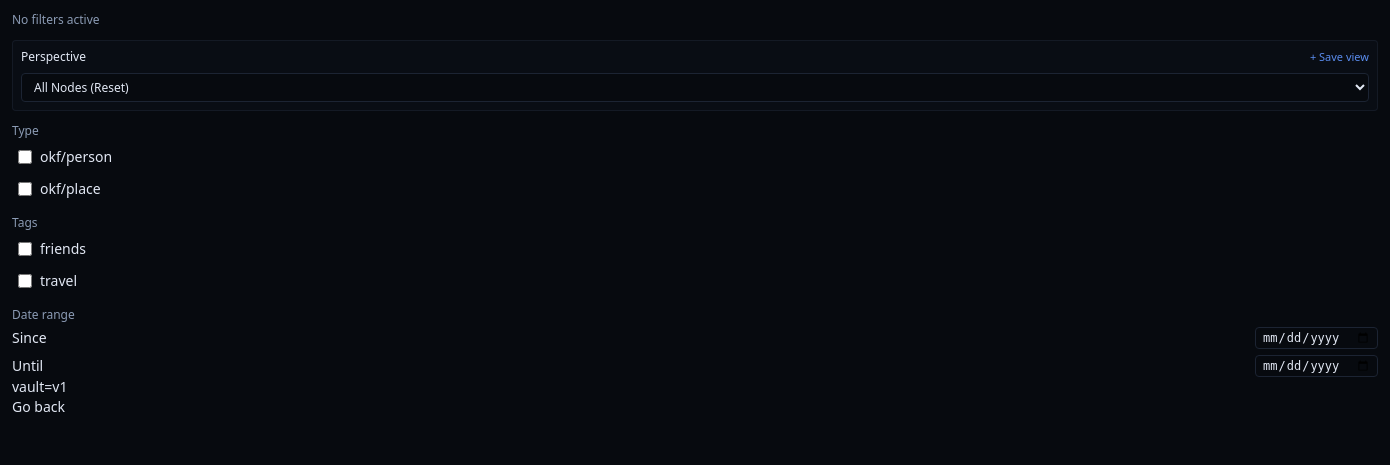
it: GraphFilters › lets an editor save and delete their own perspective, but not delete another member perspective
The image size is (1390, 465).
Expected: the button "+ Save view" is shown, [1310,49,1369,65]
Select "Their View" in the dropdown named "Graph perspective" at (695, 88), box [21,73,1369,102]
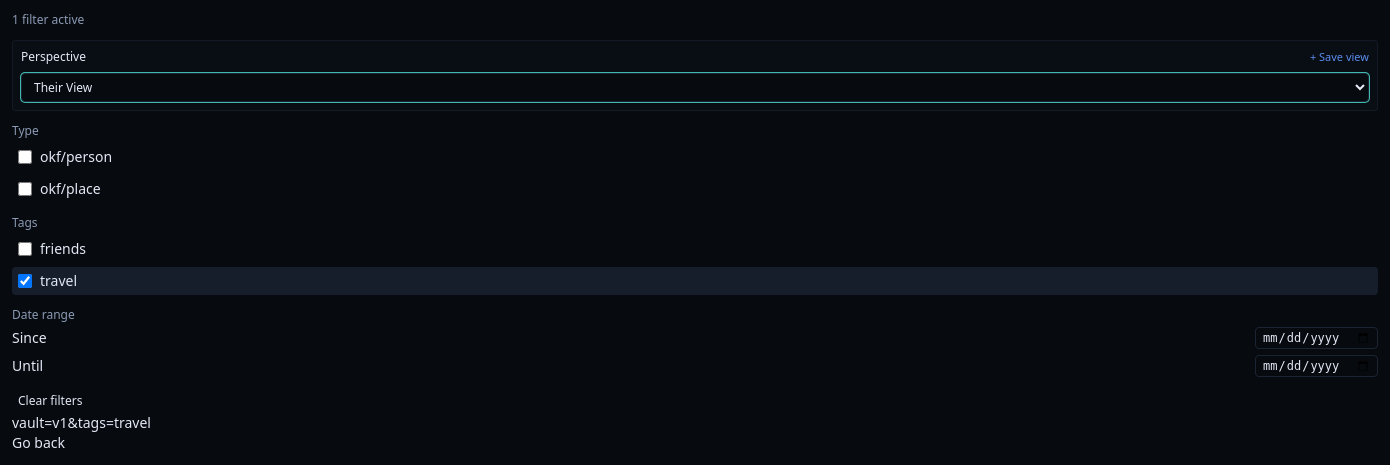
Expected: the button "Delete" is not shown
Expected: the text with test id "params" shows "tags=travel", [12,413,151,432]
Select "My View" in the dropdown named "Graph perspective" at (695, 88), box [21,73,1369,102]
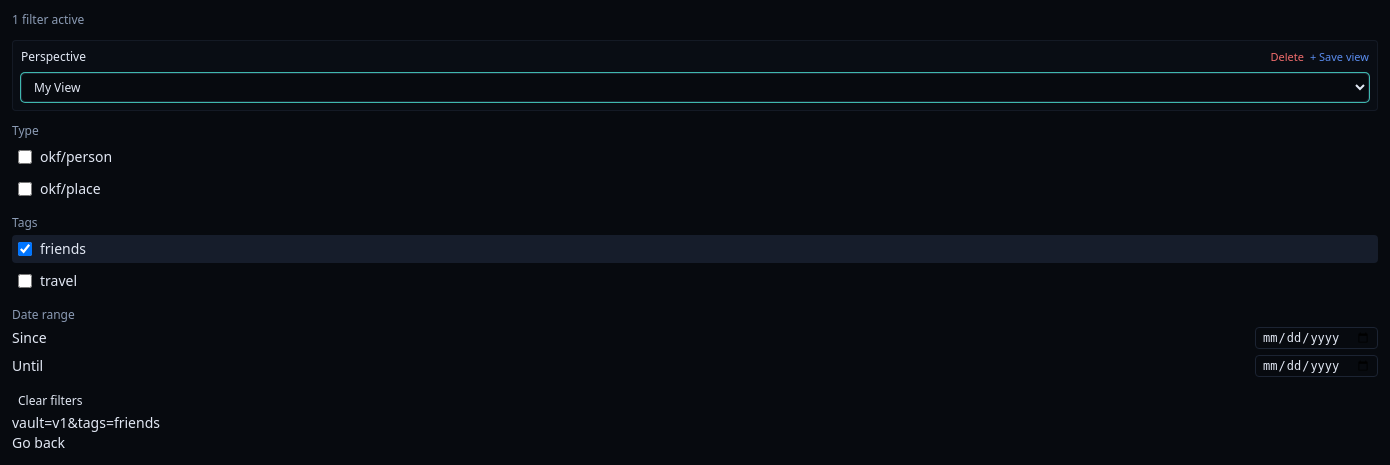
Expected: the button "Delete" is shown, [1270,49,1304,65]
